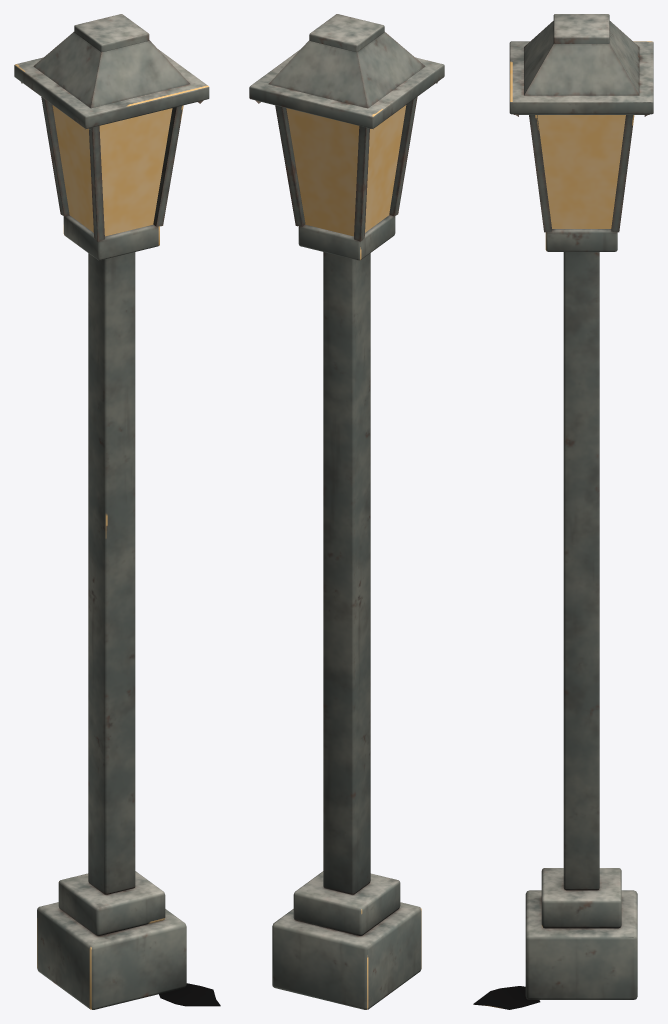
File: streetlamp.fbx
3 renders of one model, left to right at view 1: azimuth 30°, elevation 25°; view 2: azimuth 150°, elevation 25°; view 3: azimuth 270°, elevation 25°, orthographic.
Parts seen in each view (by area): view 1: Body, Glow; view 2: Body, Glow; view 3: Body, Glow.
Part boxes in pixels (x1=…): Body: x1=14, y1=14, x2=220, y2=1009; Glow: x1=52, y1=105, x2=172, y2=236; Body: x1=249, y1=14, x2=444, y2=1009; Glow: x1=286, y1=105, x2=406, y2=236; Body: x1=473, y1=14, x2=653, y2=1009; Glow: x1=537, y1=115, x2=625, y2=228.
Size of the model in its own units: 1.85 by 13.13 by 2.25.
Materials: 1 (1 with a texture image).
